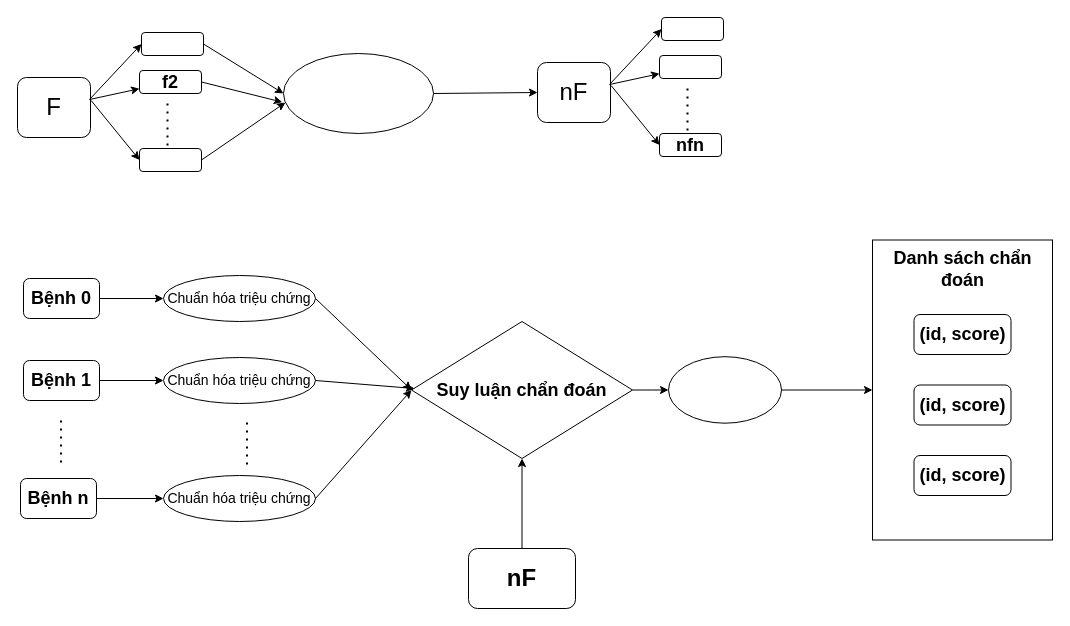
This 1070x626 diagram has some shape labels left out. The shapes that lost their labels are listed below. From the top down, each one's centre as x and y in pixels, then its label:
point (172, 44): f1
point (692, 28): nf1
point (690, 66): nf2
point (358, 93): Chuẩn hóa
point (170, 160): fn
point (725, 389): sắp xếp theo điểm tự tin
